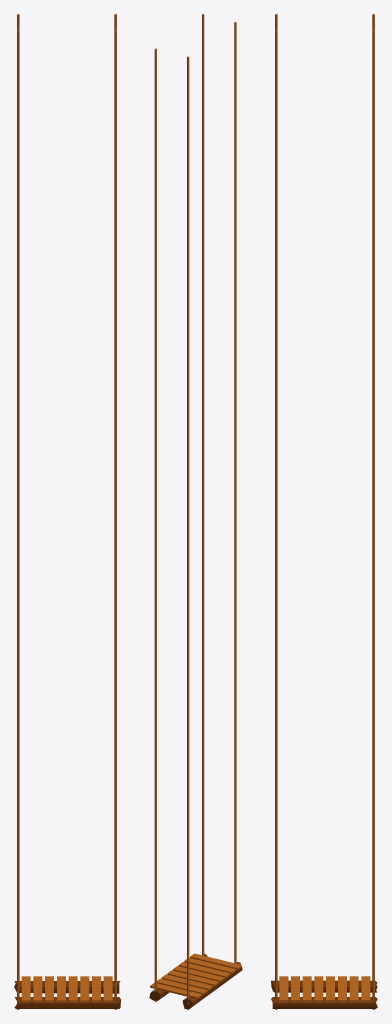
The model's file is PlataformaCuerdas.fbx.
3 renders of one model, left to right at view 1: azimuth 90°, elevation 25°; view 2: azimuth 150°, elevation 25°; view 3: azimuth 270°, elevation 25°, orthographic. The views are drawn at different scales.
Parts seen in each view (by area): view 1: Cylinder.005; view 2: Cylinder.005; view 3: Cylinder.005.
Part boxes in pixels (x1,y1,x2,y2): Cylinder.005: [14, 14, 120, 1009]; Cylinder.005: [149, 14, 242, 1009]; Cylinder.005: [271, 14, 377, 1009].
Bounding box in the file's own units: 139 × 2674 × 265.
